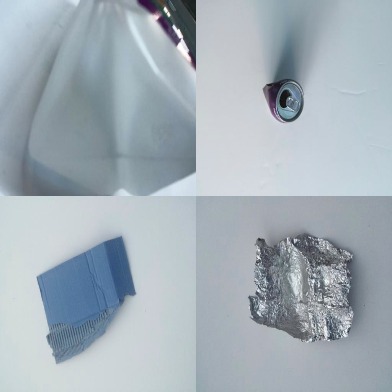cardboard: (36, 235, 137, 364)
metal: (249, 233, 354, 343), (262, 79, 304, 122)
plastic: (1, 1, 196, 195)
